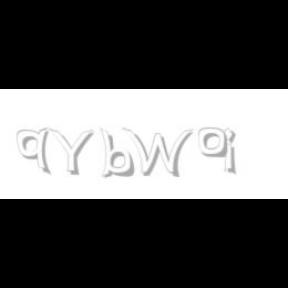W: (121, 128, 193, 178)
Y: (48, 128, 94, 176)
b: (100, 128, 138, 178)
i: (224, 128, 240, 176)
o: (198, 128, 228, 158)
q: (16, 128, 52, 176)
